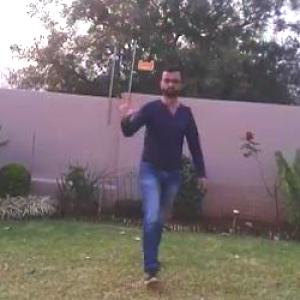follow_hand: (114, 88, 139, 120)
